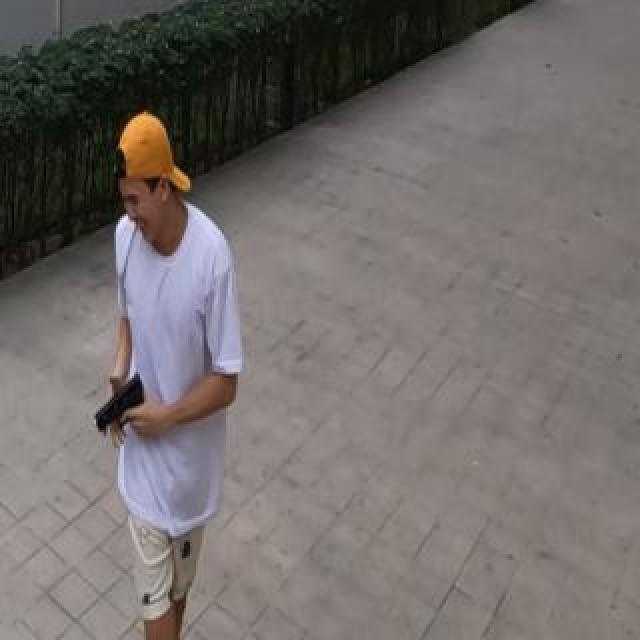Guns: (88, 371, 158, 439)
